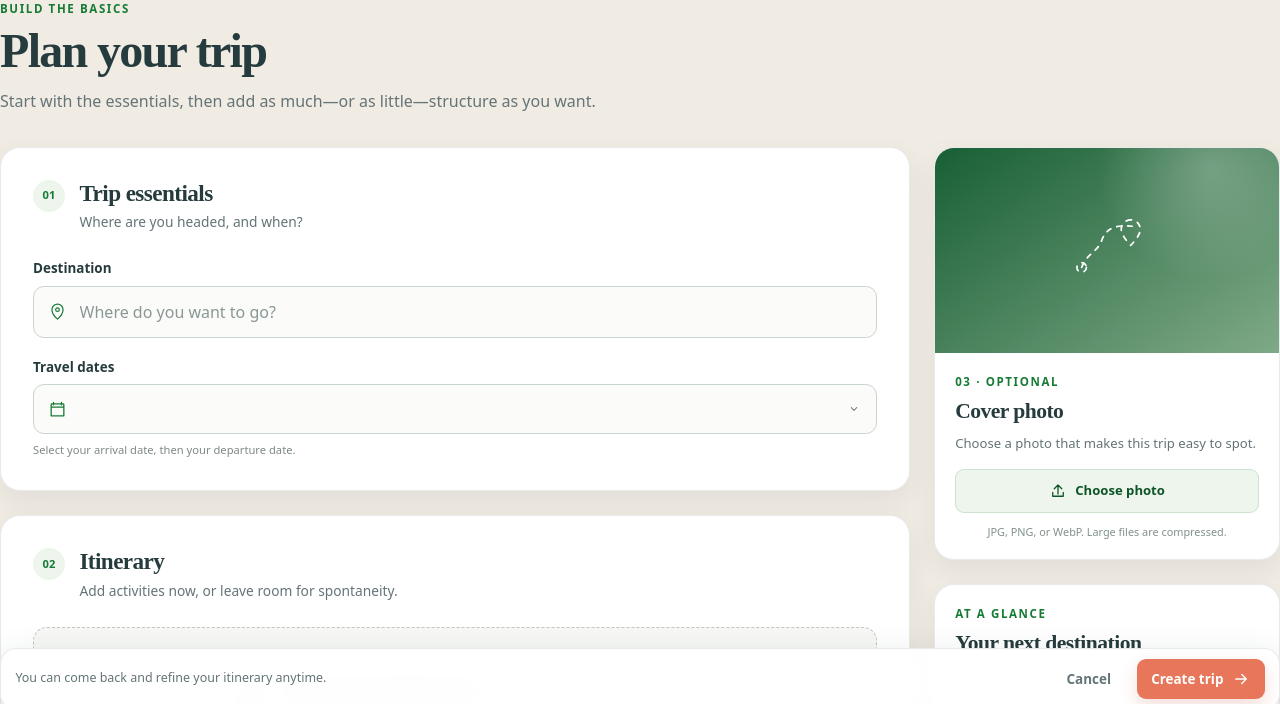
Test case: TripForm › displays error on submit when required fields are missing
What coordinates should you click on to do the following:
click the button with aria-label "save"
I would click on:
 (1201, 679)
Its box is [1137,659,1265,699].
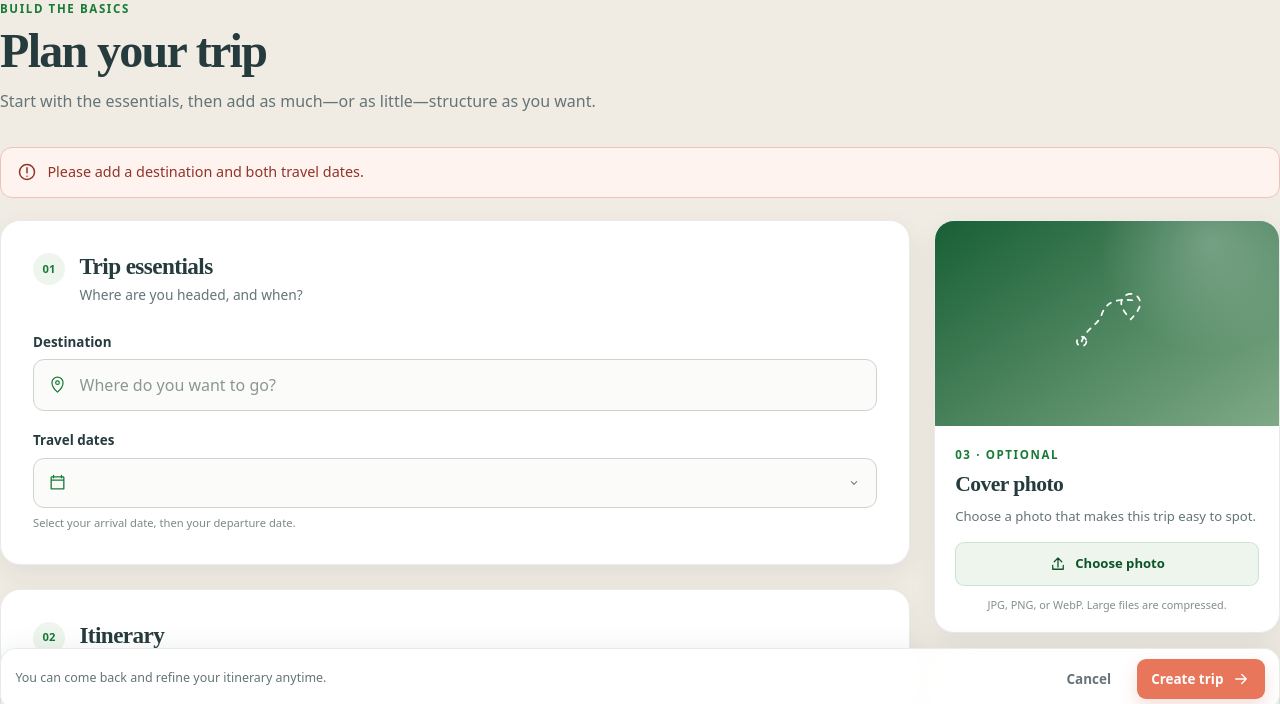
Result: the text "Please add a destination and both travel dates." is shown at [47,161,364,183]
